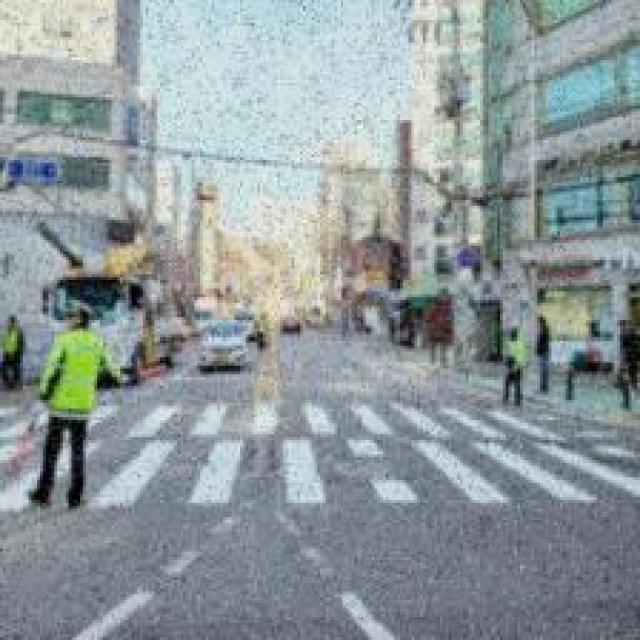crosswalk: (0, 436, 640, 512)
